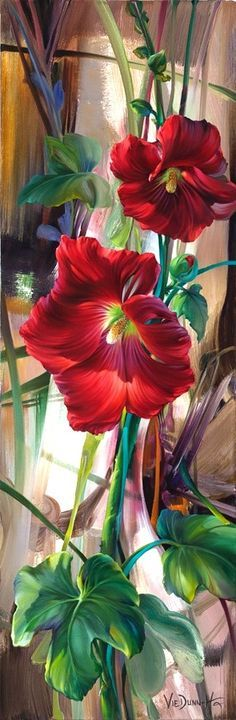Hibiscus: (28, 235, 190, 441), (109, 111, 231, 257)
